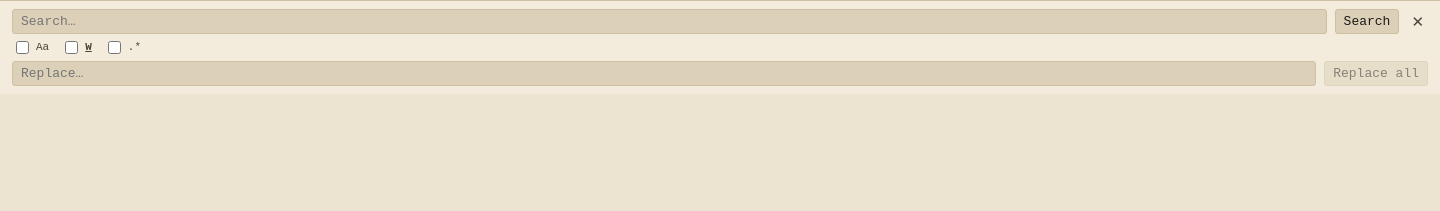
Test: SearchPanel › stringifies a non-Error thrown during replace-all
In the field named "Search pattern": (669, 22) [12, 9, 1327, 34], type "hello"
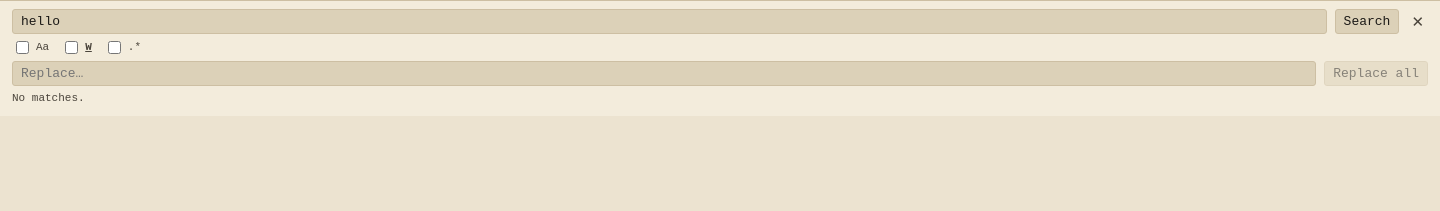
Click the button "Search": (1367, 22) [1335, 9, 1399, 34]
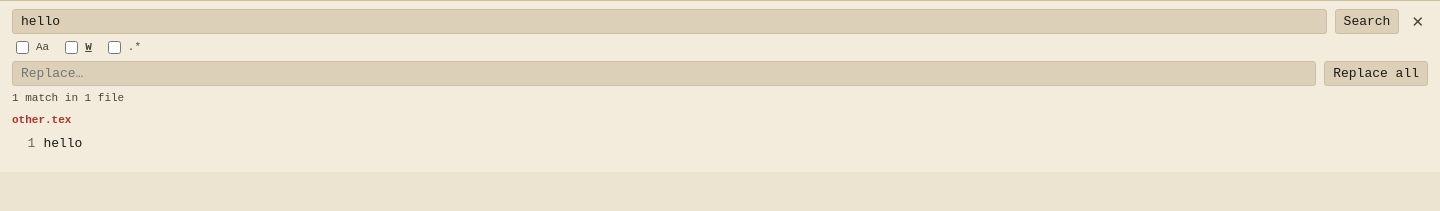
Result: the element named "Search results" is shown at [12, 92, 124, 151]
Click the button "Replace all": (1376, 74) [1324, 61, 1428, 86]
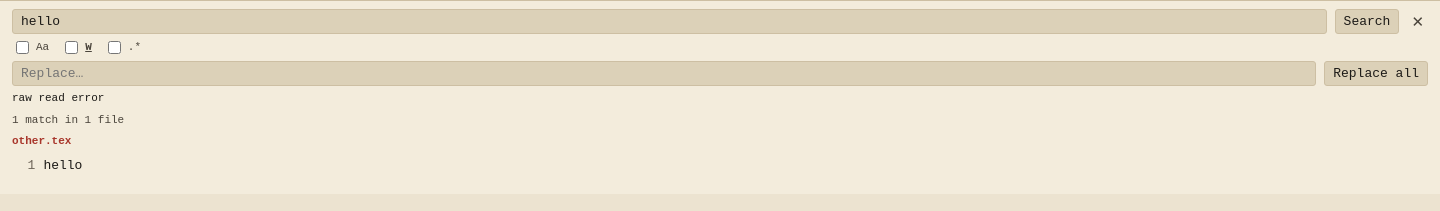
Result: the text "raw read error" is shown at [12, 92, 104, 104]
